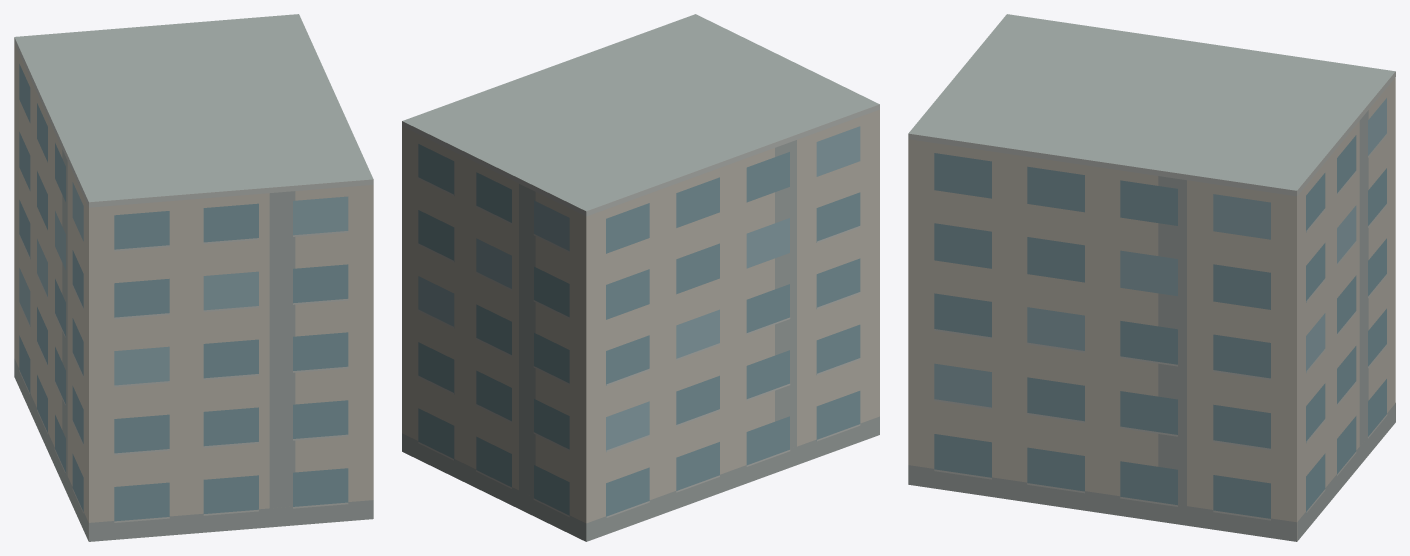
The model's file is residential-73403435-b898-41da-9026-414be2abb021.glb.
3 renders of one model, left to right at view 1: azimuth 30°, elevation 25°; view 2: azimuth 150°, elevation 25°; view 3: azimuth 270°, elevation 25°, orthographic. The views are drawn at different scales.
Parts seen in each view (by area): view 1: residential-73403435-b898-41da-9026-414be2abb021.tmp; view 2: residential-73403435-b898-41da-9026-414be2abb021.tmp; view 3: residential-73403435-b898-41da-9026-414be2abb021.tmp.
Boxes of the visible parts, box(x1,y1,x2,y2) form: residential-73403435-b898-41da-9026-414be2abb021.tmp: box(14, 14, 373, 541); residential-73403435-b898-41da-9026-414be2abb021.tmp: box(402, 14, 879, 541); residential-73403435-b898-41da-9026-414be2abb021.tmp: box(908, 14, 1395, 541).
Size of the model in its own units: 16.48 by 15.25 by 19.2.
